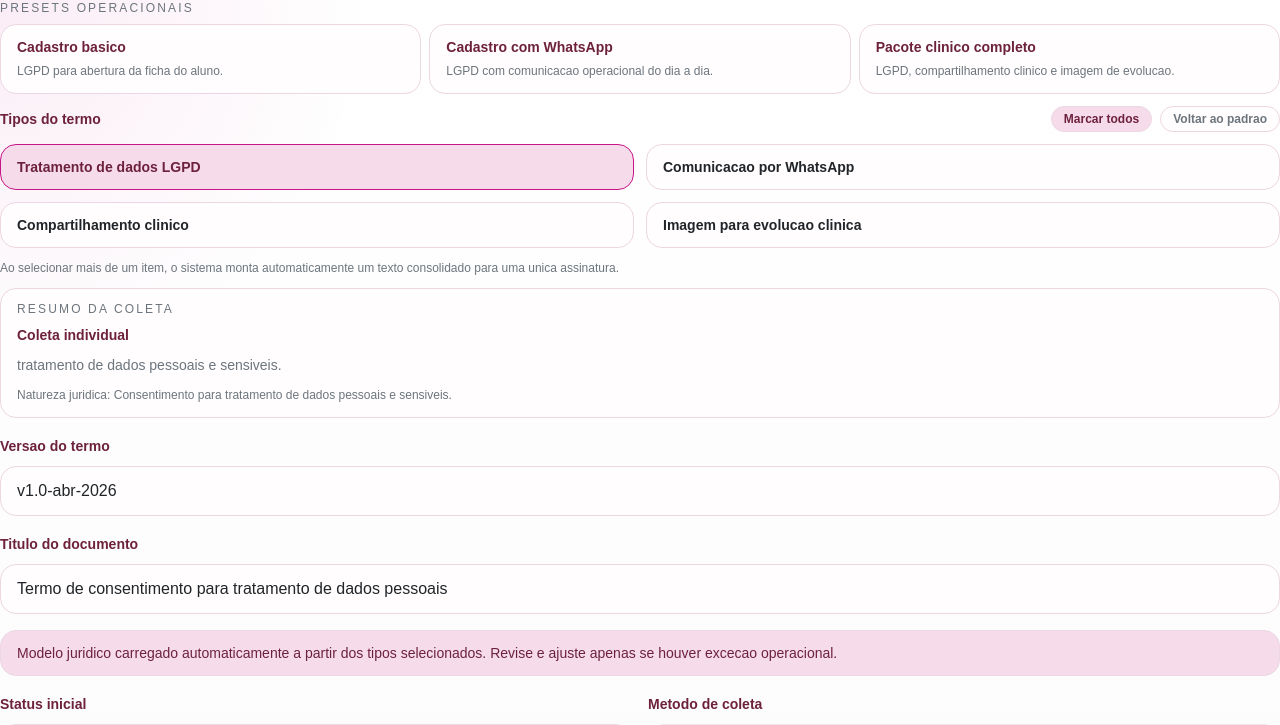
Test: LegalAcceptanceForm › carrega o modelo especifico para imagem de evolucao
The image size is (1280, 725).
What coordinates should you click on to do the following:
click the text "Imagem para evolucao clinica"
I would click on:
 (762, 225)
Its box is [663, 217, 861, 233].
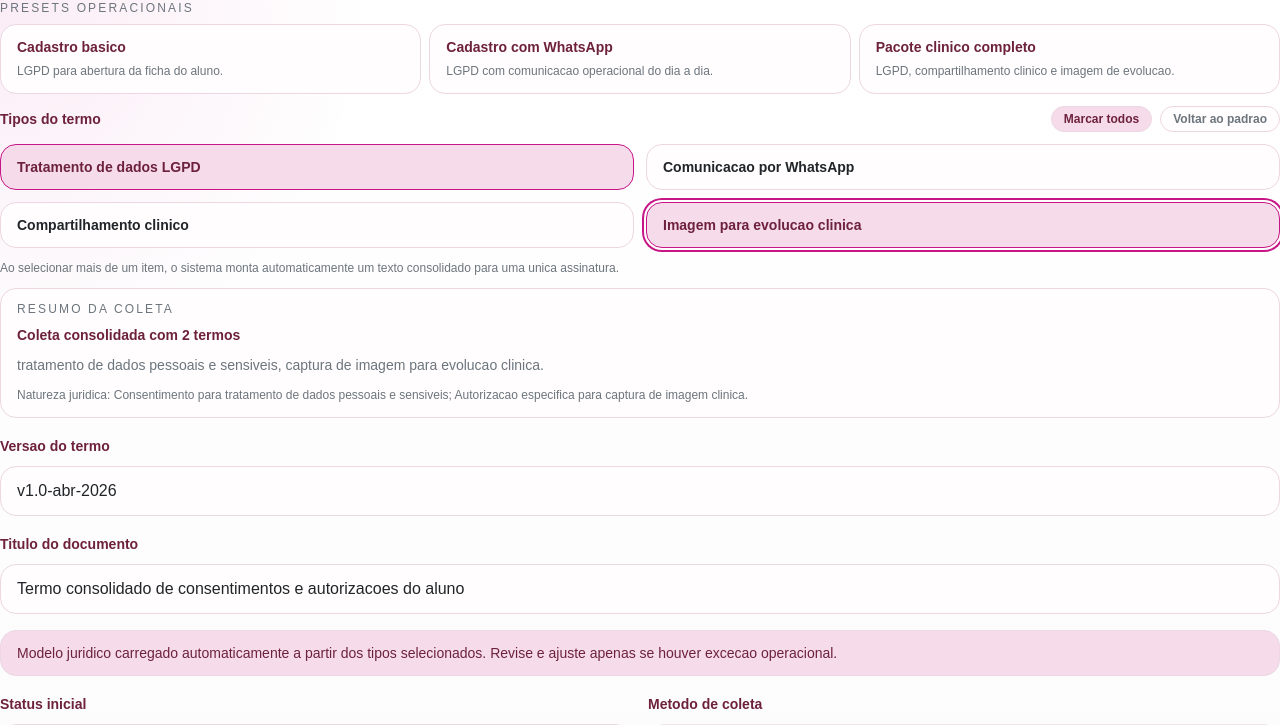
What coordinates should you click on to do the following:
click the text "Tratamento de dados LGPD"
I would click on:
 (109, 167)
Its box is [17, 159, 201, 175].
(page scrolled)
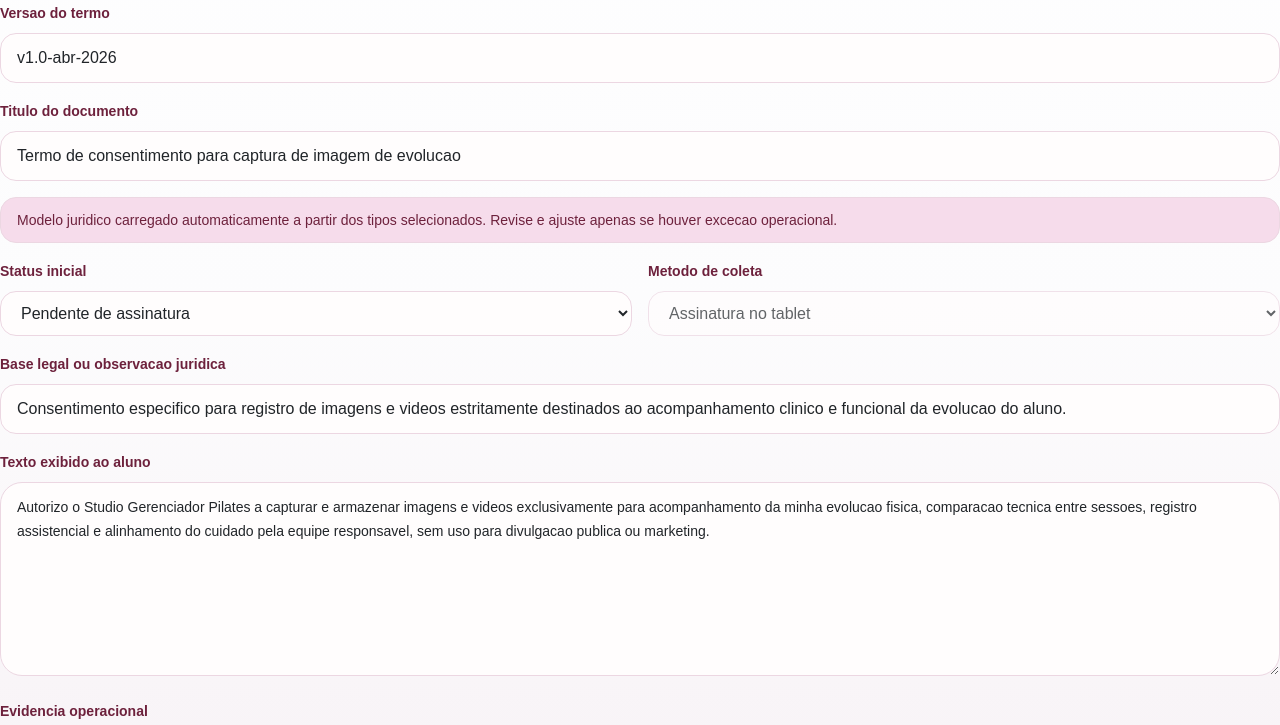
Now the field labelled "Titulo do documento" holds "Termo de consentimento para captura de imagem de evolucao", box [0, 131, 1279, 181]
Now the field labelled "Base legal ou observacao juridica" holds "Consentimento especifico para registro de imagens e videos estritamente destinados ao acompanhamento clinico e funcional da evolucao do aluno.", box [0, 384, 1279, 434]
Now the text box labelled "Texto exibido ao aluno" holds "Autorizo o Studio Gerenciador Pilates a capturar e armazenar imagens e videos exclusivamente para acompanhamento da minha evolucao fisica, comparacao tecnica en", box [0, 482, 1279, 676]
